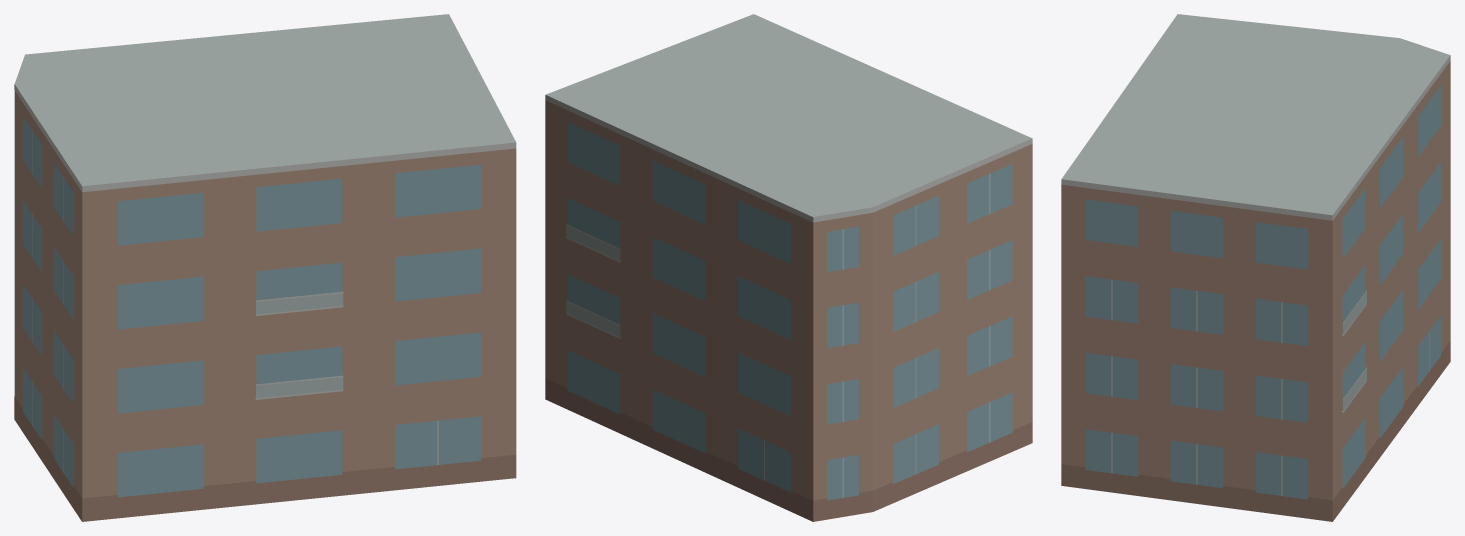
File: survey-upis-32979245.glb
3 renders of one model, left to right at view 1: azimuth 30°, elevation 25°; view 2: azimuth 150°, elevation 25°; view 3: azimuth 270°, elevation 25°, orthographic. The views are drawn at different scales.
Parts seen in each view (by area): view 1: survey-upis-32979245.tmp; view 2: survey-upis-32979245.tmp; view 3: survey-upis-32979245.tmp.
Boxes of the visible parts, box(x1,y1,x2,y2) form: survey-upis-32979245.tmp: box(14, 14, 516, 521); survey-upis-32979245.tmp: box(545, 14, 1032, 521); survey-upis-32979245.tmp: box(1061, 14, 1450, 521).
Size of the model in its own units: 19.35 by 13.73 by 15.81.
